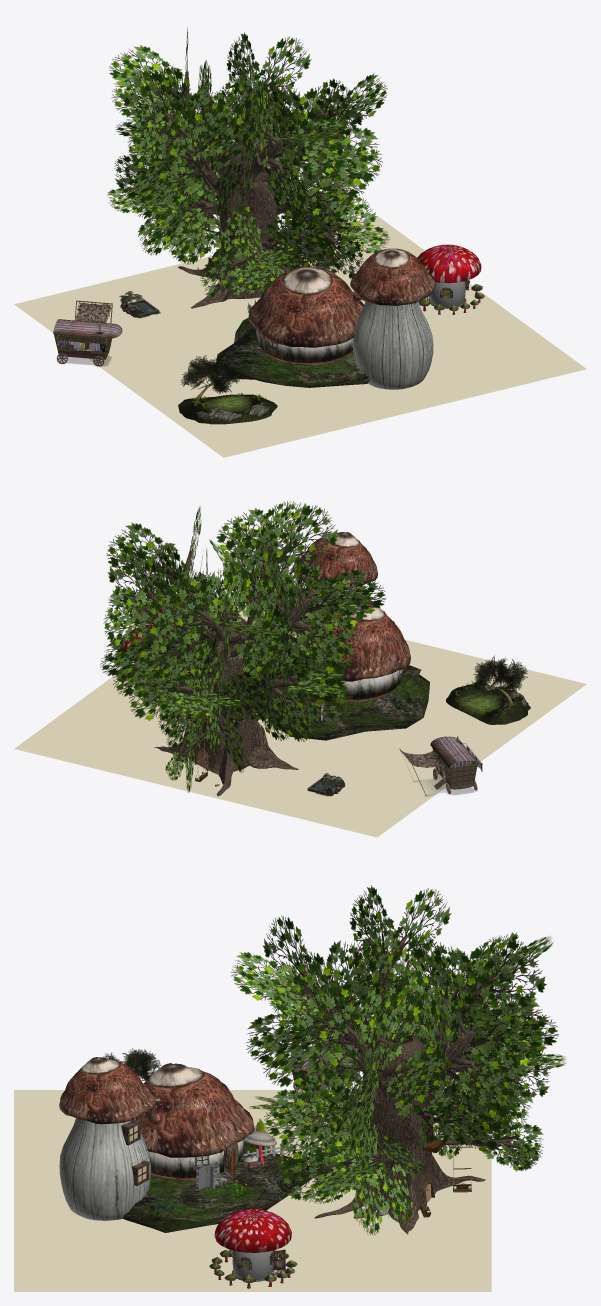
The picture shows the model from 3 angles, top to bottom: view 1: azimuth 30°, elevation 25°; view 2: azimuth 150°, elevation 25°; view 3: azimuth 270°, elevation 25°; orthographic projection. The views are drawn at different scales.
Parts seen in each view (by area): view 1: Elf Tree part 2-leaves, Terrain 1,1, 13x13x13 (×2), Maison Champignon 01, rocha m, GYPSY HOUSE event. Arcadia, Fairy Ring Scene (×2), Mushroom House 02, elf tree-unfinished; view 2: Elf Tree part 2-leaves, Terrain 1,1, 13x13x13 (×2), rocha m, Fairy Ring Scene (×2), GYPSY HOUSE event. Arcadia, elf tree-unfinished, Maison Champignon 01; view 3: Elf Tree part 2-leaves, Terrain 1,1, 13x13x13 (×2), Maison Champignon 01, rocha m, Mushroom House 02, elf tree-unfinished, Fairy Ring Scene, GYPSY HOUSE event. Arcadia, Beach_flower.
Boxes of the visible parts, left/top/right/bottom form: Elf Tree part 2-leaves: left=106, top=28, right=390, bottom=308; Terrain 1,1: left=14, top=216, right=586, bottom=457; 13x13x13 (×2): left=248, top=248, right=435, bottom=347; Maison Champignon 01: left=256, top=291, right=433, bottom=389; rocha m: left=216, top=317, right=370, bottom=387; GYPSY HOUSE event. Arcadia: left=53, top=300, right=122, bottom=366; Fairy Ring Scene (×2): left=178, top=355, right=277, bottom=424; Mushroom House 02: left=417, top=244, right=484, bottom=314; elf tree-unfinished: left=219, top=241, right=275, bottom=299; Elf Tree part 2-leaves: left=100, top=501, right=385, bottom=796; Terrain 1,1: left=14, top=597, right=586, bottom=837; 13x13x13 (×2): left=292, top=532, right=410, bottom=681; rocha m: left=256, top=665, right=429, bottom=740; Fairy Ring Scene (×2): left=446, top=655, right=530, bottom=724; GYPSY HOUSE event. Arcadia: left=399, top=736, right=482, bottom=796; elf tree-unfinished: left=189, top=712, right=257, bottom=774; Maison Champignon 01: left=295, top=586, right=403, bottom=704; Elf Tree part 2-leaves: left=230, top=885, right=566, bottom=1235; Terrain 1,1: left=14, top=1090, right=491, bottom=1291; 13x13x13 (×2): left=59, top=1057, right=254, bottom=1157; Maison Champignon 01: left=59, top=1096, right=276, bottom=1220; rocha m: left=123, top=1141, right=311, bottom=1232; Mushroom House 02: left=209, top=1209, right=297, bottom=1288; elf tree-unfinished: left=369, top=1133, right=436, bottom=1210; Fairy Ring Scene: left=103, top=1048, right=161, bottom=1081; GYPSY HOUSE event. Arcadia: left=285, top=1038, right=356, bottom=1092; Beach_flower: left=196, top=1161, right=219, bottom=1189.
Size of what is drawn, in the model's own units: 70.14 by 42.98 by 76.78.
158 materials, 153 textured.
